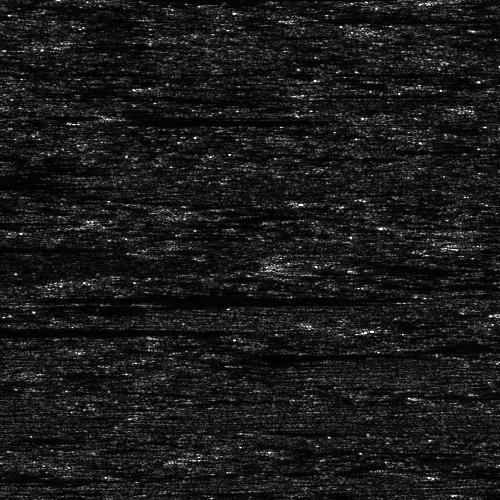object: (0, 285, 126, 310), (68, 111, 151, 128), (405, 224, 500, 237), (268, 11, 299, 28), (289, 91, 342, 96)
shadow: (0, 285, 368, 310), (284, 11, 469, 28), (110, 111, 281, 128), (0, 327, 204, 334), (316, 91, 438, 96), (462, 224, 500, 237), (0, 244, 92, 249)
